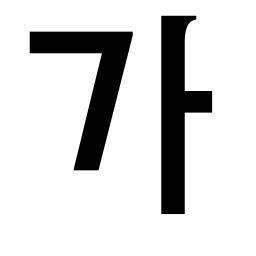Gaji: (144, 79, 204, 130)
